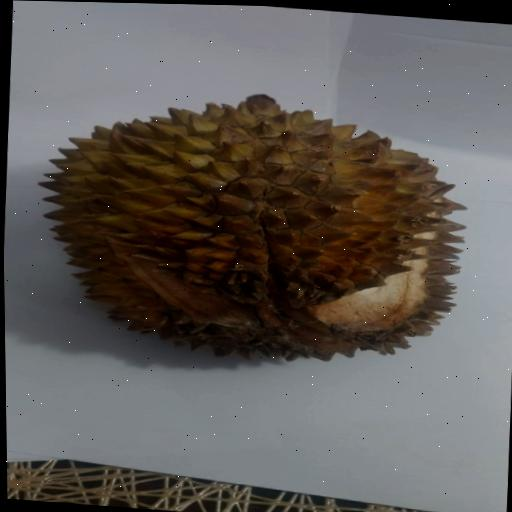rot: (16, 66, 509, 391)
